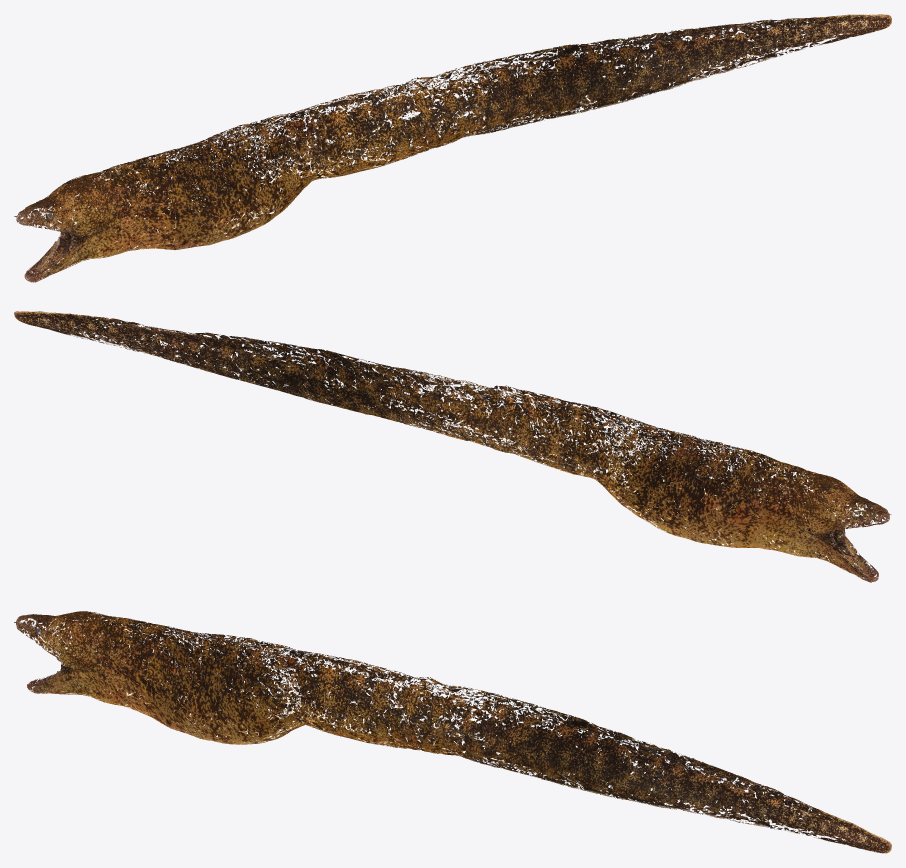
The model's file is moray.glb.
3 views of the same model, one above another, from view 1: azimuth 30°, elevation 25°; view 2: azimuth 150°, elevation 25°; view 3: azimuth 330°, elevation 25° (orthographic).
Visible parts, largest first — view 1: Object_6, Object_22, Object_14, Object_29; view 2: Object_6, Object_14, Object_29, Object_22; view 3: Object_6, Object_22, Object_14, Object_29.
Boxes of the visible parts, left/top/right/bottom form: Object_6: left=21, top=16, right=870, bottom=282; Object_22: left=16, top=14, right=891, bottom=282; Object_14: left=16, top=16, right=864, bottom=282; Object_29: left=14, top=15, right=885, bottom=281; Object_6: left=51, top=314, right=889, bottom=581; Object_14: left=47, top=317, right=889, bottom=581; Object_29: left=78, top=324, right=891, bottom=582; Object_22: left=14, top=311, right=889, bottom=581; Object_6: left=16, top=611, right=868, bottom=846; Object_22: left=16, top=611, right=891, bottom=853; Object_14: left=19, top=613, right=887, bottom=853; Object_29: left=14, top=614, right=885, bottom=847.
Bounding box in the file's own units: 25.36 × 3.05 × 1.67.
Materials: 4 (4 with a texture image).
